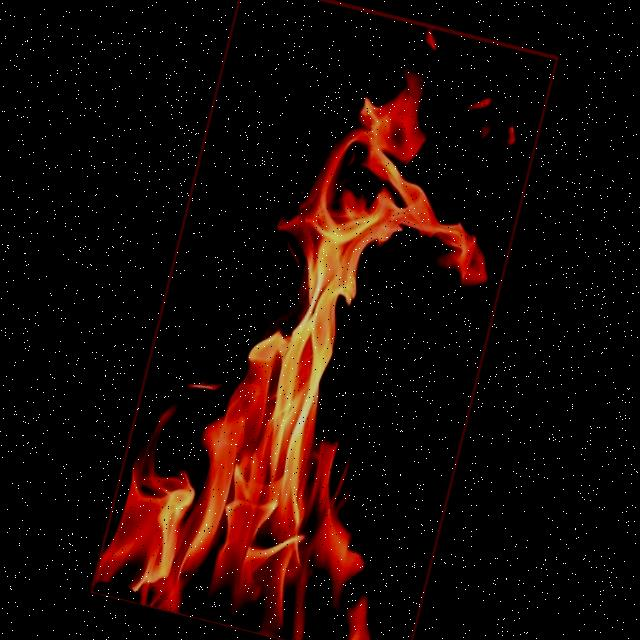fire: (89, 0, 558, 640)
